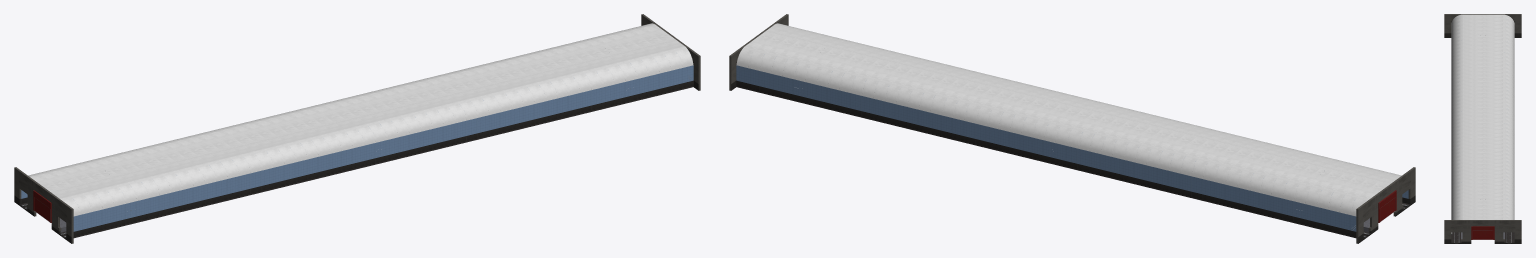
File: RTU MIREA.fbx
3 views of the same model, side by side, from view 1: azimuth 30°, elevation 25°; view 2: azimuth 150°, elevation 25°; view 3: azimuth 270°, elevation 25° (orthographic). The views are drawn at different scales.
Parts seen in each view (by area): view 1: platform roof, platform side wall, platform tracks.001, platform o side front wall.001|platform o side front wall|Du, platform o side front wall.002|platform o side front wall|Du; view 2: platform roof, platform side wall, platform tracks.001, platform o side front wall.002|platform o side front wall|Du, platform o side front wall.001|platform o side front wall|Du; view 3: platform roof, platform o side front wall.004|platform o side front wall|Du, platform o side front wall.003|platform o side front wall|Du, platform o side front wall.002|platform o side front wall|Du, platform o side front wall.001|platform o side front wall|Du, platform tracks.001, station low hermetic door.004|station low hermetic door|Dupl, platform onesvod center block.001|platform o center block|Du, station low hermetic door.004|station low hermetic wall|Dupl.
Part boxes in pixels (x1,y1,x2,y2): platform roof: [28, 23, 693, 216]; platform side wall: [21, 65, 693, 236]; platform tracks.001: [22, 86, 693, 238]; platform o side front wall.001|platform o side front wall|Du: [51, 194, 73, 243]; platform o side front wall.002|platform o side front wall|Du: [14, 167, 36, 216]; platform roof: [736, 23, 1401, 216]; platform side wall: [736, 65, 1408, 236]; platform tracks.001: [736, 86, 1407, 238]; platform o side front wall.002|platform o side front wall|Du: [1356, 194, 1378, 243]; platform o side front wall.001|platform o side front wall|Du: [1393, 167, 1415, 216]; platform roof: [1451, 14, 1514, 219]; platform o side front wall.004|platform o side front wall|Du: [1494, 220, 1521, 243]; platform o side front wall.003|platform o side front wall|Du: [1444, 220, 1471, 243]; platform o side front wall.002|platform o side front wall|Du: [1494, 14, 1521, 37]; platform o side front wall.001|platform o side front wall|Du: [1444, 14, 1471, 37]; platform tracks.001: [1451, 232, 1514, 242]; station low hermetic door.004|station low hermetic door|Dupl: [1472, 230, 1493, 239]; platform onesvod center block.001|platform o center block|Du: [1471, 220, 1494, 226]; station low hermetic door.004|station low hermetic wall|Dupl: [1471, 226, 1494, 239].
Size of the model in its own units: 2620 by 16650 by 880.
